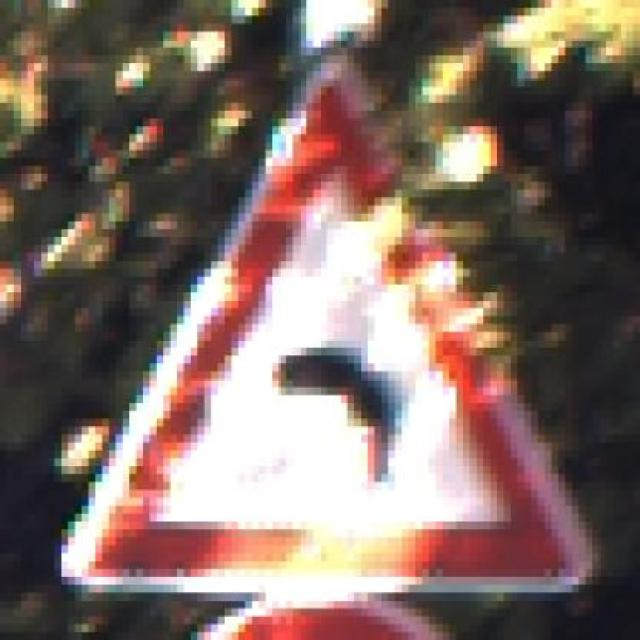Dangerous Left Curve Ahead: (66, 67, 605, 604)
